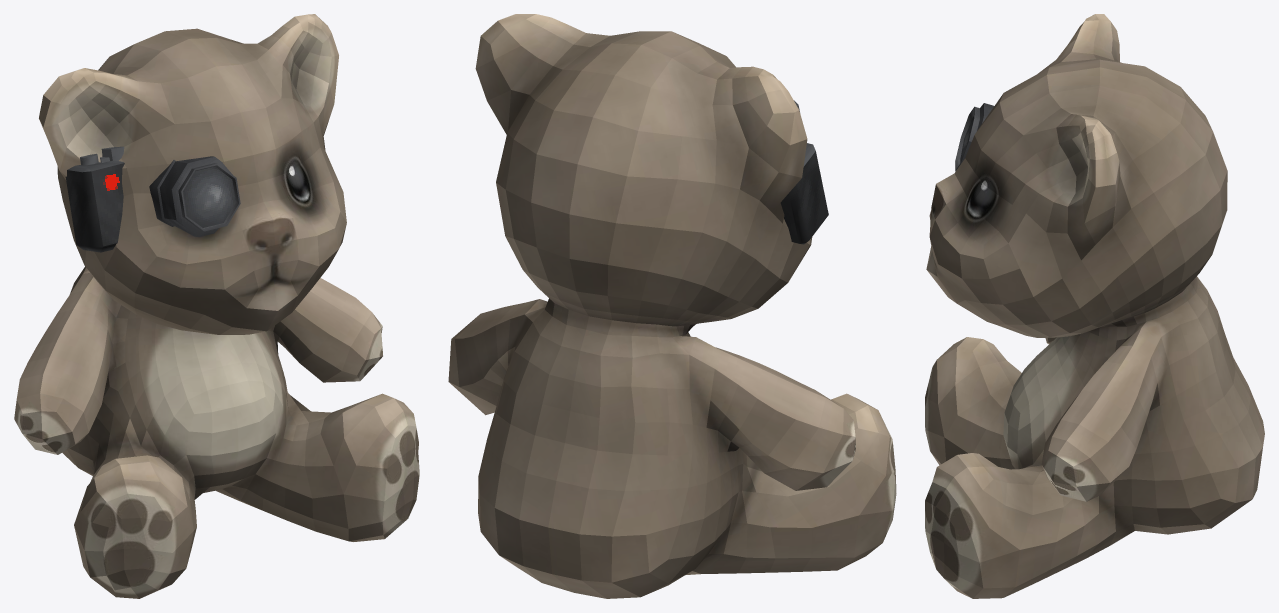
The model's file is Bearcam.glb.
The picture shows the model from 3 angles, left to right: view 1: azimuth 30°, elevation 25°; view 2: azimuth 150°, elevation 25°; view 3: azimuth 270°, elevation 25°; orthographic projection. The views are drawn at different scales.
Visible parts, largest first — view 1: M_Camera_T_Camera_0; view 2: M_Camera_T_Camera_0; view 3: M_Camera_T_Camera_0.
Boxes of the visible parts, box(x1,y1,x2,y2) form: M_Camera_T_Camera_0: box(14, 14, 419, 598); M_Camera_T_Camera_0: box(448, 14, 896, 598); M_Camera_T_Camera_0: box(925, 14, 1264, 598).
Size of the model in its own units: 0.7124 by 0.9159 by 0.5967.
2 materials, 2 textured.
